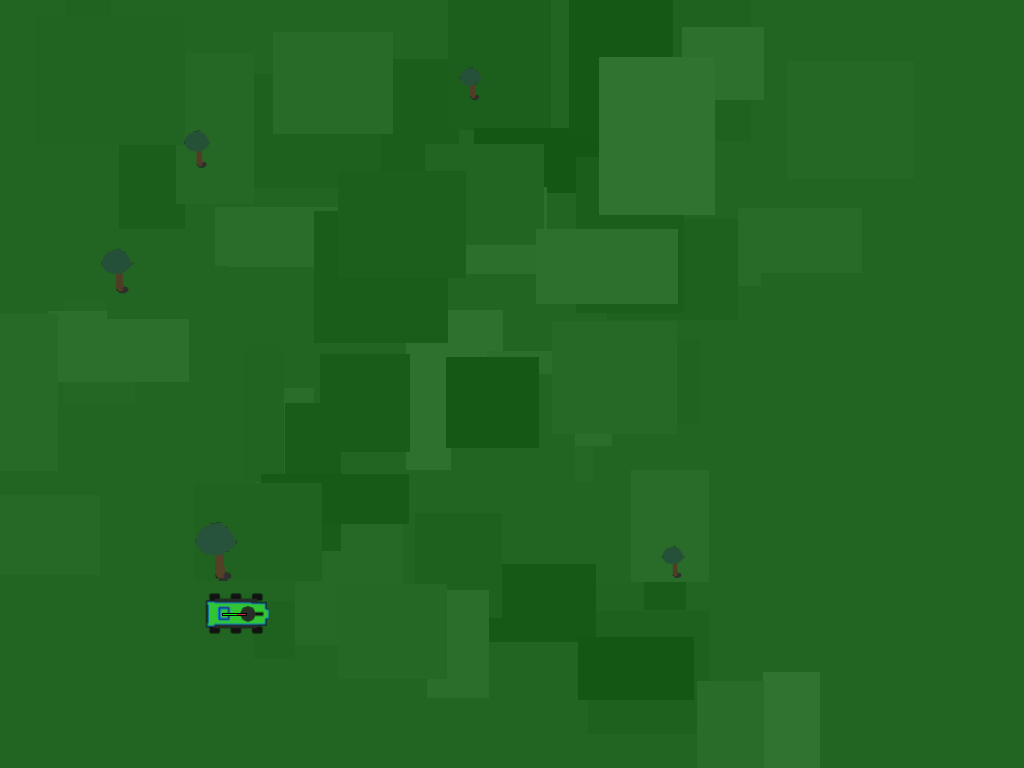APC_usa: (207, 585, 261, 639)
